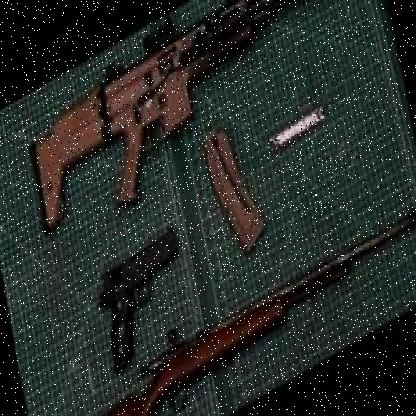rifle: (34, 188, 416, 416), (20, 0, 360, 255)
